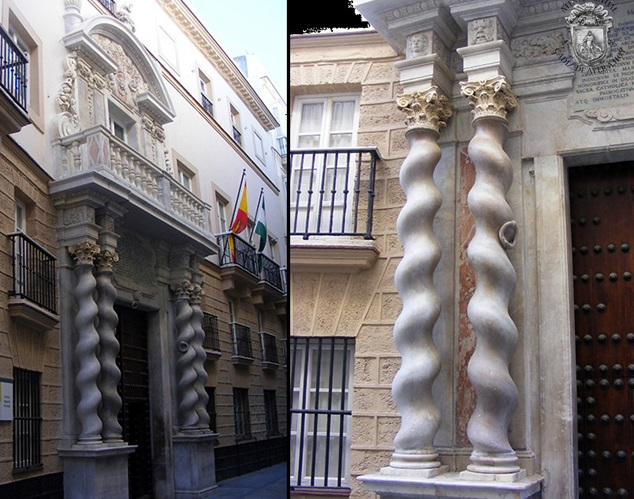columna-salomonica: (463, 96, 522, 464), (391, 99, 446, 474), (70, 253, 107, 445), (93, 257, 126, 441), (171, 299, 199, 430), (190, 297, 211, 430)
